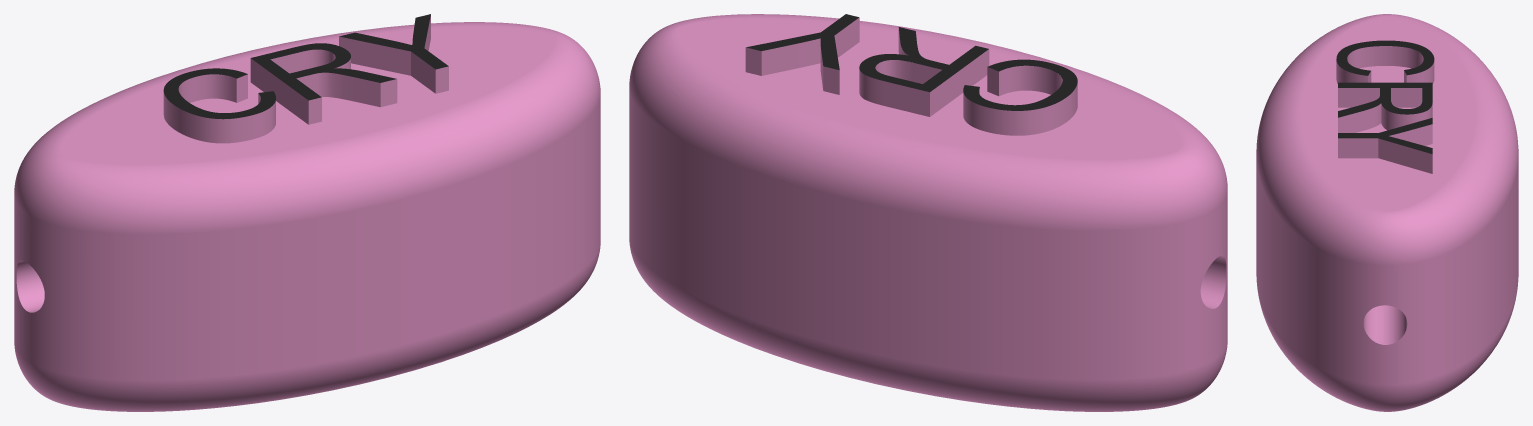
The model's file is Cry.glb.
3 renders of one model, left to right at view 1: azimuth 30°, elevation 25°; view 2: azimuth 150°, elevation 25°; view 3: azimuth 270°, elevation 25°, orthographic. The views are drawn at different scales.
Bounding box in the file's own units: 0.0243 × 0.011 × 0.012.
